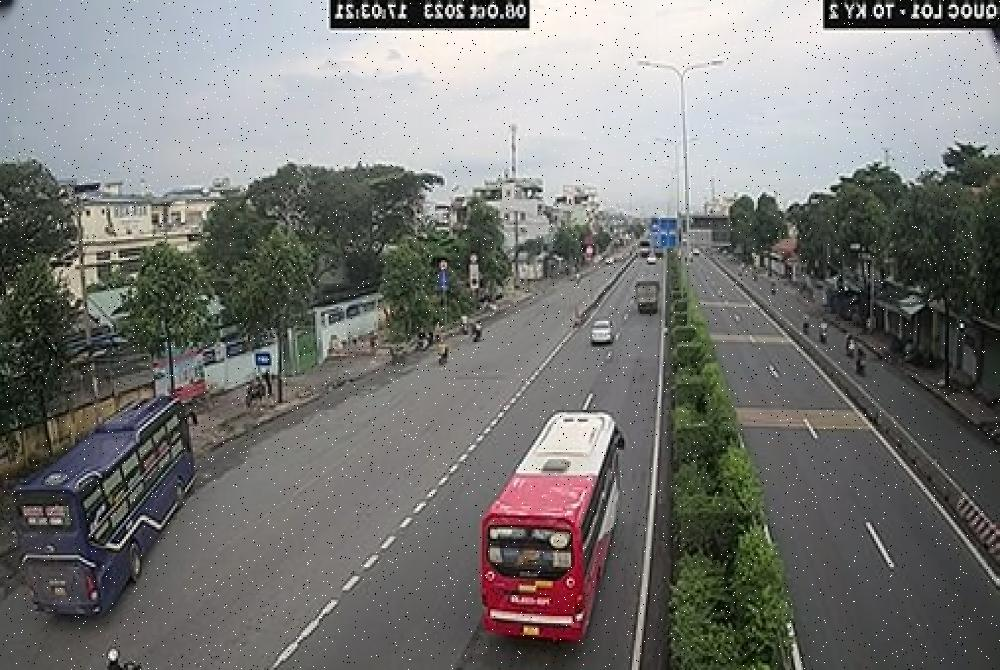bus: (11, 397, 196, 618), (480, 409, 621, 647)
